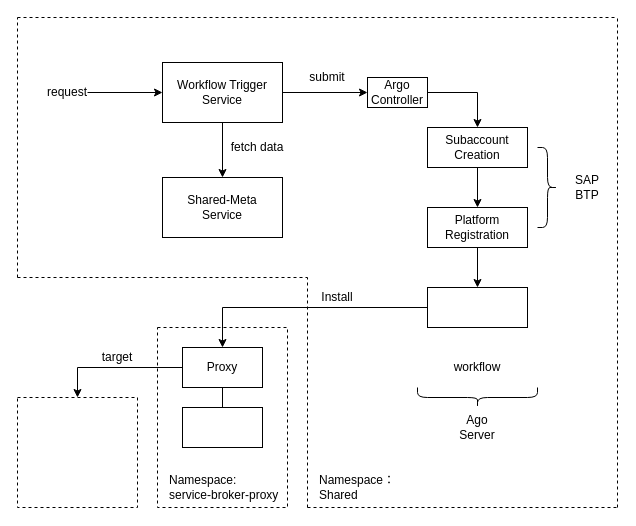
This 636x526 diagram has some shape labels left out. The shapes that lost their labels are listed below. From the top down, each one's centre as x and y in pixels, then its label:
At (477,307): "Proxy Installation".
At (222,427): "Other configuration".
At (77,452): "Namespace: target namespace".
